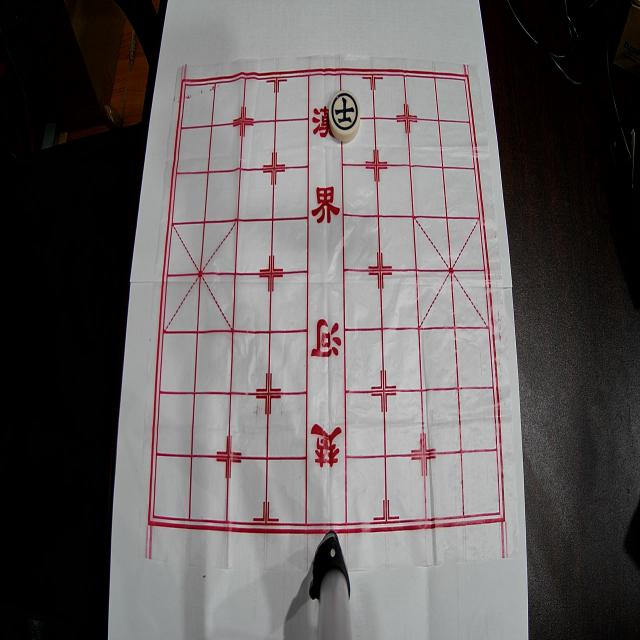black-guard: (329, 90, 360, 141)
